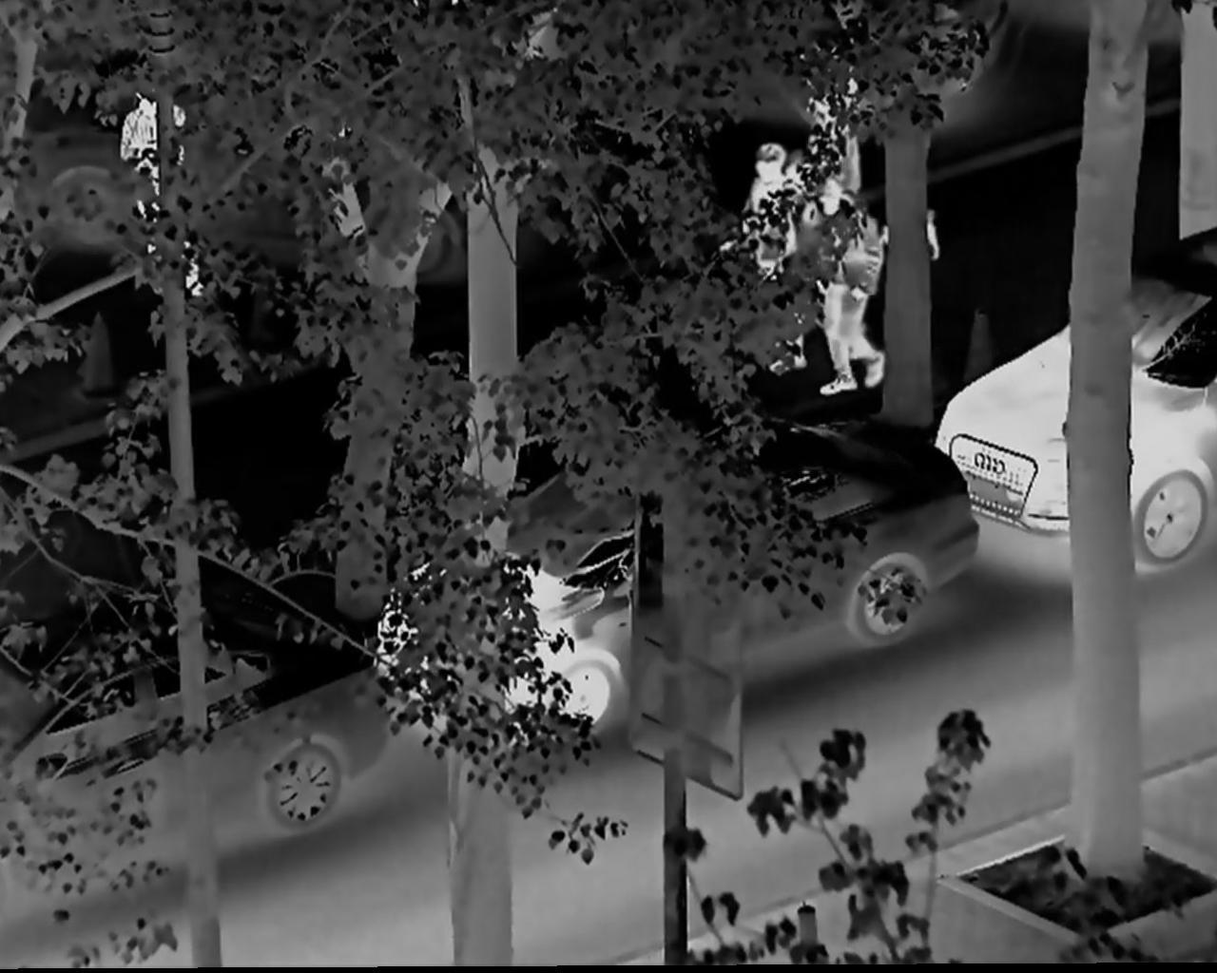person: (800, 163, 887, 391), (121, 83, 202, 311), (727, 136, 798, 366)
